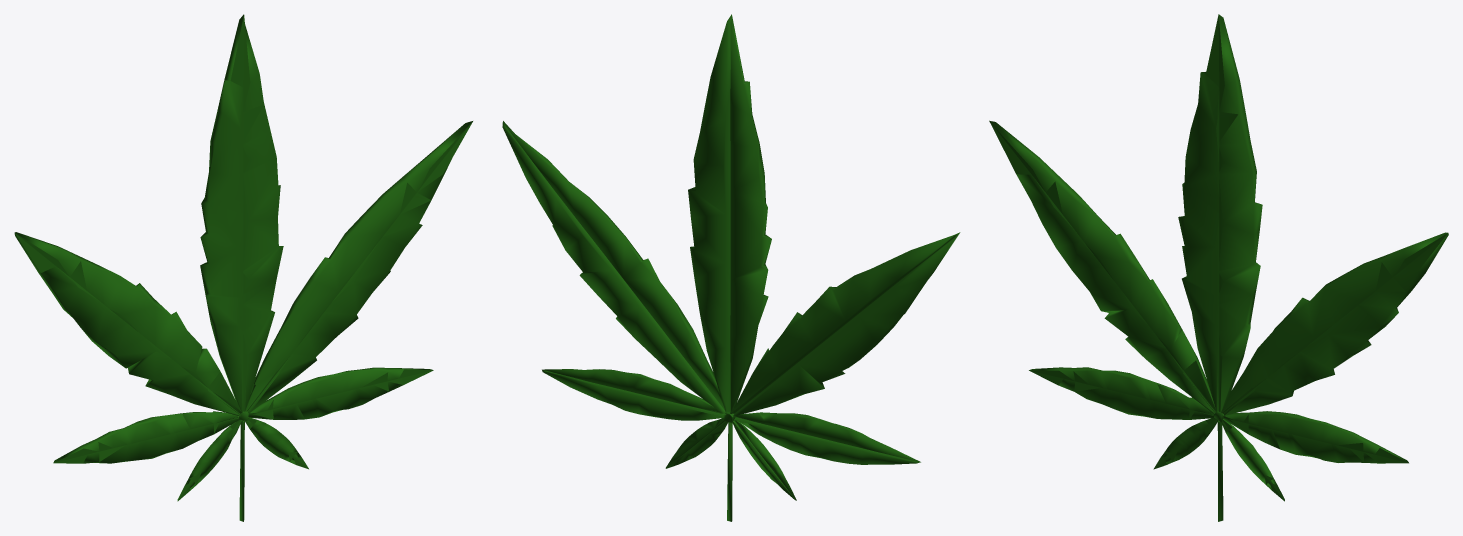
Rendered from weed.glb.
3 views of the same model, side by side, from view 1: azimuth 30°, elevation 25°; view 2: azimuth 150°, elevation 25°; view 3: azimuth 330°, elevation 25° (orthographic).
Visible parts, largest first — view 1: Leaf; view 2: Leaf; view 3: Leaf.
Part boxes in pixels (left/top/right/bottom): Leaf: left=14, top=14, right=472, bottom=521; Leaf: left=502, top=14, right=960, bottom=521; Leaf: left=989, top=14, right=1448, bottom=521.
Size of the model in its own units: 1.98 by 2.09 by 0.0339.
